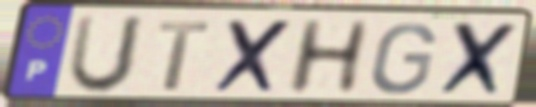G: (367, 21, 439, 97)
H: (282, 18, 375, 98)
T: (155, 19, 214, 93)
U: (63, 13, 150, 98)
X: (433, 19, 524, 101), (210, 17, 298, 97)
